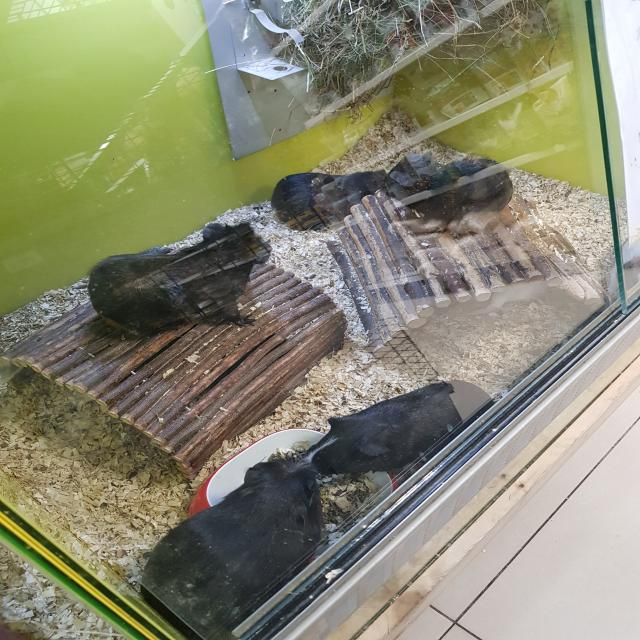guinea pig: (137, 455, 326, 634), (88, 219, 270, 327), (302, 378, 500, 476), (385, 150, 511, 230), (270, 168, 392, 232)
